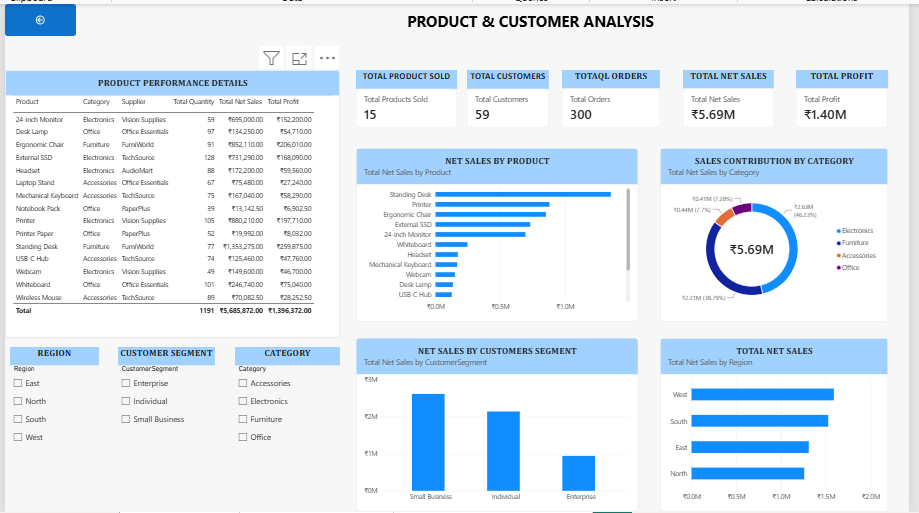

The dashboard page shown, as its layout file describes it:
{"tool":"powerbi","page":{"name":"Product & Customer Analysis","canvas":[1920,1080],"ordinal":2},"visuals":[{"type":"textbox","box":[10,0,280,280],"z":0},{"type":"textbox","box":[10,290,280,280],"z":1},{"type":"textbox","box":[314.6,14.9,1605.1,76.5],"z":2},{"type":"cardVisual","title":"TOTAL PRODUCT SOLD","fields":{"Data":["TABLE.Total Products Sold"]},"box":[746.2,140.3,214.7,123.3],"z":3},{"type":"cardVisual","title":"TOTAL CUSTOMERS","fields":{"Data":["TABLE.Total Customers"]},"box":[982.2,140.3,174.3,123.3],"z":4},{"type":"cardVisual","title":"TOTAQL ORDERS","fields":{"Data":["TABLE.Total Orders"]},"box":[1184.2,140.3,208.3,123.3],"z":5},{"type":"cardVisual","title":"TOTAL NET SALES ","fields":{"Data":["TABLE.Total Net Sales"]},"box":[1441.4,140.3,193.5,123.3],"z":6},{"type":"cardVisual","title":"TOTAL PROFIT","fields":{"Data":["TABLE.Total Profit"]},"box":[1681.7,140.3,195.6,123.3],"z":7},{"type":"clusteredBarChart","title":"NET SALES BY PRODUCT","fields":{"Category":["DimProduct.Product"],"Y":["TABLE.Total Net Sales"]},"box":[746.2,306.1,599.5,369.9],"z":8},{"type":"donutChart","title":"SALES CONTRIBUTION BY CATEGORY","fields":{"Category":["DimProduct.Category"],"Y":["TABLE.Total Net Sales"]},"box":[1392.5,306.1,484.7,369.9],"z":9},{"type":"clusteredColumnChart","title":"NET SALES BY CUSTOMERS SEGMENT","fields":{"Category":["DimCustomer.CustomerSegment"],"Y":["TABLE.Total Net Sales"]},"box":[746.2,710.1,599.5,369.9],"z":10},{"type":"clusteredBarChart","title":"TOTAL NET SALES","fields":{"Category":["DimCustomer.Region"],"Y":["TABLE.Total Net Sales"]},"box":[1392.5,710.1,484.7,369.9],"z":11},{"type":"tableEx","title":"PRODUCT PERFORMANCE DETAILS","fields":{"Values":["DimProduct.Product","DimProduct.Category","DimProduct.Supplier","TABLE.Total Quantity","TABLE.Total Net Sales","TABLE.Total Profit"]},"box":[0,140.3,712.2,569.8],"z":12},{"type":"slicer","title":"REGION","fields":{"Values":["DimCustomer.Region"]},"box":[10.6,729.2,189.2,231.7],"z":13},{"type":"slicer","title":"CUSTOMER SEGMENT","fields":{"Values":["DimCustomer.CustomerSegment"]},"box":[240.2,729.2,206.2,231.7],"z":14},{"type":"slicer","title":"CATEGORY","fields":{"Values":["DimProduct.Category"]},"box":[489,729.2,223.2,248.7],"z":15},{"type":"actionButton","box":[0,0,150.9,68],"z":16}]}

Visuals, with their boxes on the page's 1920x1080 design canvas (x1, y1, x2, y2). These are canvas units, not pixel positions in the 919x513 screenshot, which may show the page scaled, cropped or inside an application window:
textbox: {"x1": 10, "y1": 0, "x2": 290, "y2": 280}
textbox: {"x1": 10, "y1": 290, "x2": 290, "y2": 570}
textbox: {"x1": 315, "y1": 15, "x2": 1920, "y2": 91}
"TOTAL PRODUCT SOLD" cardVisual: {"x1": 746, "y1": 140, "x2": 961, "y2": 264}
"TOTAL CUSTOMERS" cardVisual: {"x1": 982, "y1": 140, "x2": 1156, "y2": 264}
"TOTAQL ORDERS" cardVisual: {"x1": 1184, "y1": 140, "x2": 1392, "y2": 264}
"TOTAL NET SALES " cardVisual: {"x1": 1441, "y1": 140, "x2": 1635, "y2": 264}
"TOTAL PROFIT" cardVisual: {"x1": 1682, "y1": 140, "x2": 1877, "y2": 264}
"NET SALES BY PRODUCT" clusteredBarChart: {"x1": 746, "y1": 306, "x2": 1346, "y2": 676}
"SALES CONTRIBUTION BY CATEGORY" donutChart: {"x1": 1392, "y1": 306, "x2": 1877, "y2": 676}
"NET SALES BY CUSTOMERS SEGMENT" clusteredColumnChart: {"x1": 746, "y1": 710, "x2": 1346, "y2": 1080}
"TOTAL NET SALES" clusteredBarChart: {"x1": 1392, "y1": 710, "x2": 1877, "y2": 1080}
"PRODUCT PERFORMANCE DETAILS" tableEx: {"x1": 0, "y1": 140, "x2": 712, "y2": 710}
"REGION" slicer: {"x1": 11, "y1": 729, "x2": 200, "y2": 961}
"CUSTOMER SEGMENT" slicer: {"x1": 240, "y1": 729, "x2": 446, "y2": 961}
"CATEGORY" slicer: {"x1": 489, "y1": 729, "x2": 712, "y2": 978}
actionButton: {"x1": 0, "y1": 0, "x2": 151, "y2": 68}
